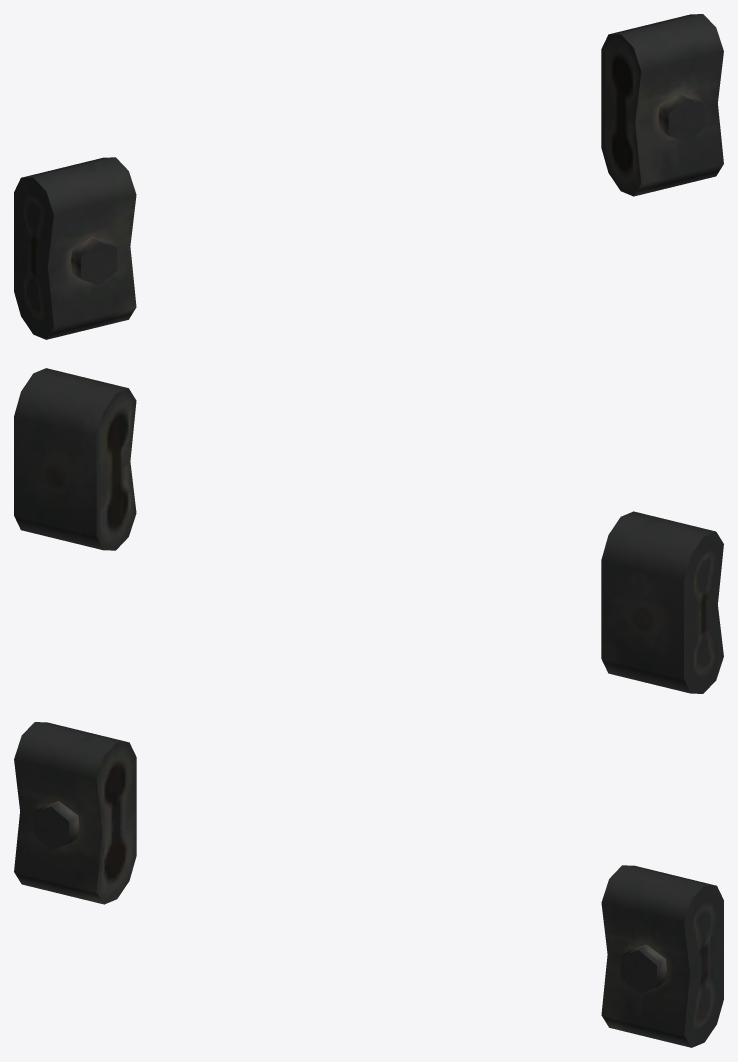
3 views of the same model, one above another, from view 1: azimuth 30°, elevation 25°; view 2: azimuth 150°, elevation 25°; view 3: azimuth 330°, elevation 25° (orthographic).
Parts seen in each view (by area): view 1: set_0_group_0; view 2: set_0_group_0; view 3: set_0_group_0.
Boxes of the visible parts, bbox=[...] form: set_0_group_0: bbox=[14, 14, 723, 339]; set_0_group_0: bbox=[14, 368, 723, 693]; set_0_group_0: bbox=[14, 722, 723, 1047].
Size of the model in its own units: 0.584 by 0.1308 by 0.0662.
Materials: 1 (1 with a texture image).
